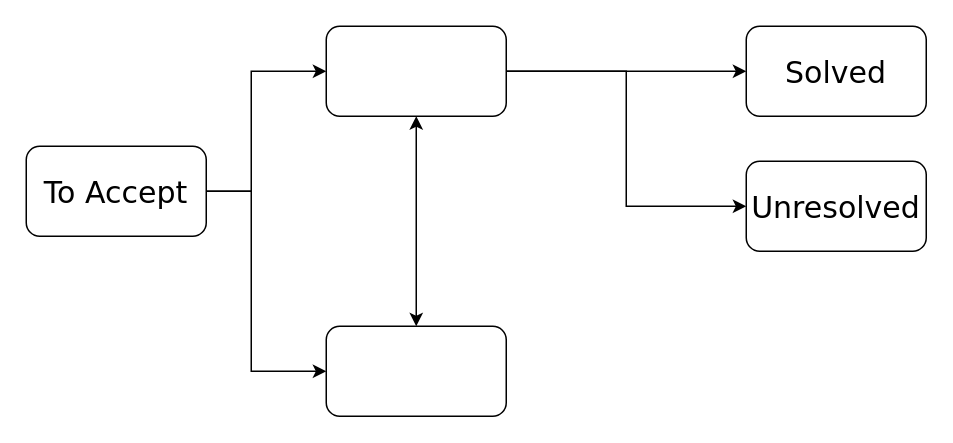
Some shapes in this 953 by 443 pixel diagram are drawn without their labels. The shapes that lost their labels are listed below. From the top down, each one's centre as x and y in pixels, then its label:
the point at 415,70: Accepted
the point at 415,370: Rejected
